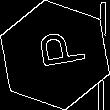P_W: (25, 33, 85, 77)
